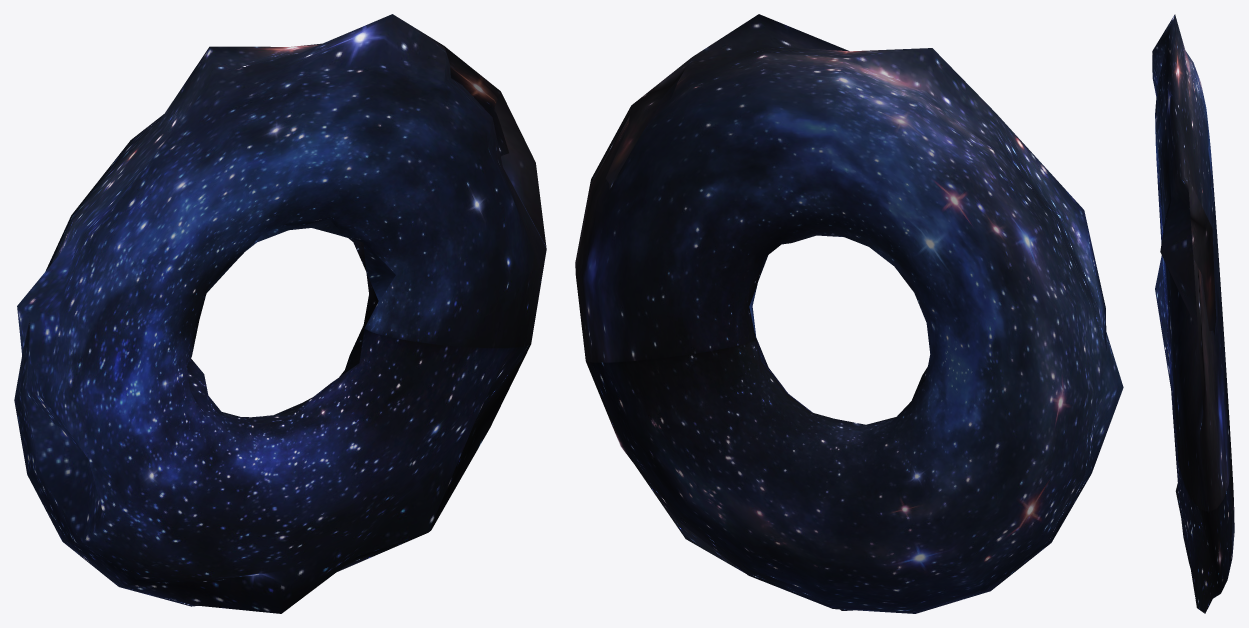
Rendered from Luxcircle.fbx.
3 renders of one model, left to right at view 1: azimuth 30°, elevation 25°; view 2: azimuth 150°, elevation 25°; view 3: azimuth 270°, elevation 25°, orthographic. The views are drawn at different scales.
Visible parts, largest first — view 1: pTorus1; view 2: pTorus1; view 3: pTorus1.
Part boxes in pixels (x1,y1,x2,y2): pTorus1: (14,14,546,613); pTorus1: (575,14,1123,613); pTorus1: (1152,14,1234,613).
Bounding box in the file's own units: 3.05 × 3.16 × 0.4429.
1 material, 1 textured.
